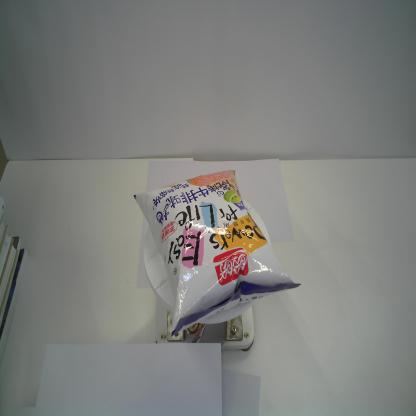Puffed Food: (133, 169, 302, 337)
